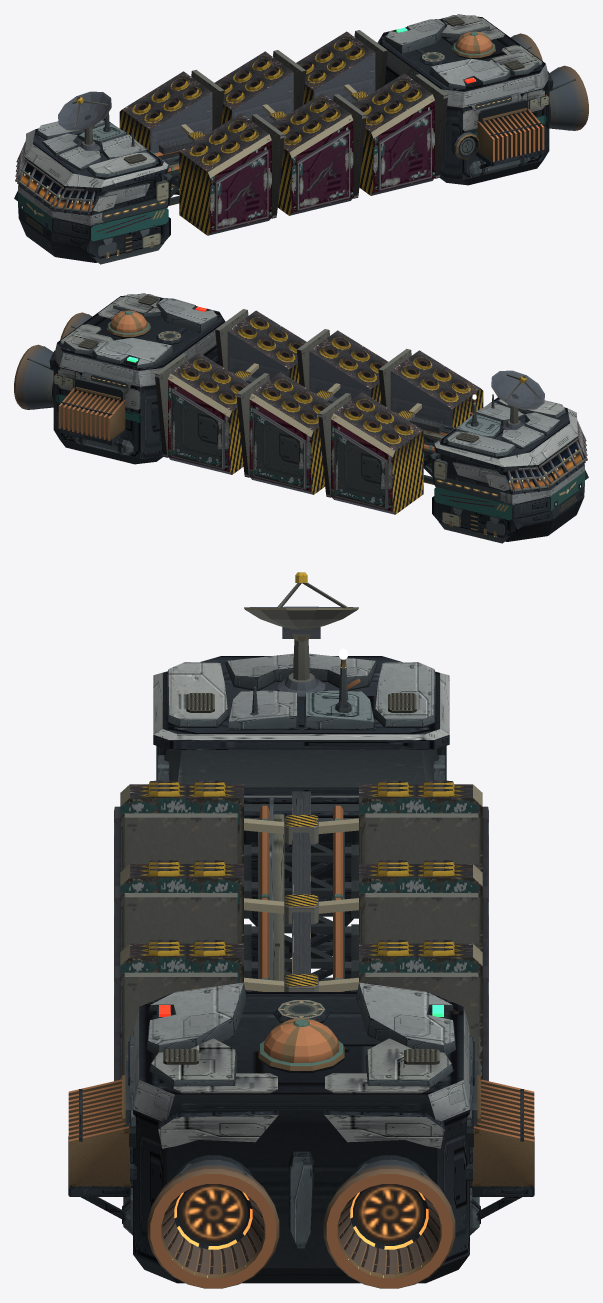
File: barge.glb
3 renders of one model, top to bottom at view 1: azimuth 30°, elevation 25°; view 2: azimuth 150°, elevation 25°; view 3: azimuth 270°, elevation 25°, orthographic. The views are drawn at different scales.
Visible parts, largest first — view 1: hull plating, rack_0 plating, rack_2 plating, rack_4 plating, rack_1 plating, rack_3 plating, rack_5 plating, engine_port plating, fire_control plating, shield_generator plating, engine_starboard plating; view 2: hull plating, rack_1 plating, rack_3 plating, rack_5 plating, rack_0 plating, rack_2 plating, rack_4 plating, engine_starboard plating, fire_control plating, shield_generator plating, engine_port plating; view 3: hull plating, engine_port plating, engine_starboard plating, rack_0 plating, rack_1 plating, rack_2 plating, rack_3 plating, rack_4 plating, rack_5 plating, fire_control plating, shield_generator plating.
Part boxes in pixels (x1,y1,x2,y2): hull plating: (14,14,553,264); rack_0 plating: (179,113,284,235); rack_2 plating: (272,93,366,215); rack_4 plating: (353,73,447,195); rack_1 plating: (119,69,224,188); rack_3 plating: (214,50,306,124); rack_5 plating: (296,30,387,104); engine_port plating: (549,65,588,130); fire_control plating: (58,91,111,151); shield_generator plating: (452,31,495,58); engine_starboard plating: (510,33,542,60); hull plating: (49,293,588,543); rack_1 plating: (318,392,423,514); rack_3 plating: (236,372,330,494); rack_5 plating: (155,352,249,474); rack_0 plating: (378,348,483,442); rack_2 plating: (296,329,388,403); rack_4 plating: (215,309,306,383); engine_starboard plating: (14,344,53,409); fire_control plating: (491,370,544,430); shield_generator plating: (107,310,150,337); engine_port plating: (60,312,92,339); hull plating: (68,653,534,1283); engine_port plating: (147,1155,279,1288); engine_starboard plating: (323,1155,455,1288); rack_0 plating: (114,780,257,889); rack_1 plating: (345,780,488,889); rack_2 plating: (114,860,257,969); rack_3 plating: (345,860,488,969); rack_4 plating: (114,939,243,1080); rack_5 plating: (359,939,488,1080); fire_control plating: (244,572,358,700); shield_generator plating: (258,1018,344,1072).
Size of the model in its own units: 2 by 0.5368 by 0.7807.
2 materials, 2 textured.
